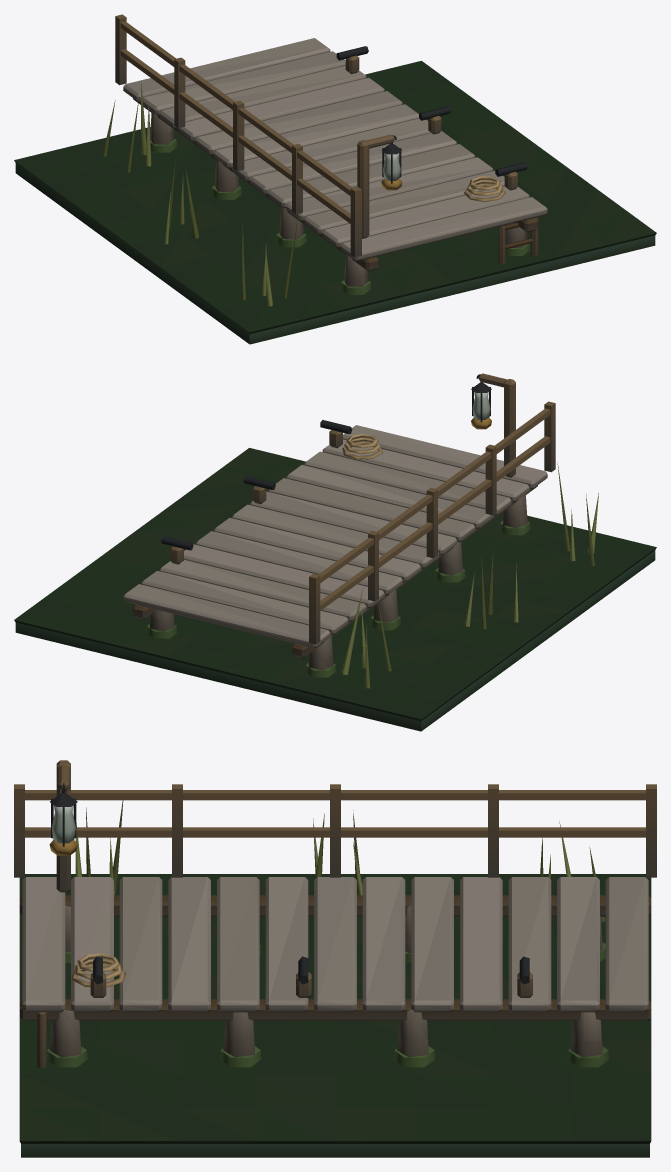
File: fishing-dock-tile.glb
The picture shows the model from 3 angles, top to bottom: view 1: azimuth 30°, elevation 25°; view 2: azimuth 150°, elevation 25°; view 3: azimuth 270°, elevation 25°; orthographic projection. The views are drawn at different scales.
Visible parts, largest first — view 1: fishing_dock_tile; view 2: fishing_dock_tile; view 3: fishing_dock_tile.
Boxes of the visible parts, x1,y1,x2,y2 form: fishing_dock_tile: (14, 14, 656, 344); fishing_dock_tile: (14, 373, 656, 731); fishing_dock_tile: (14, 760, 656, 1157).
Size of the model in its own units: 4 by 1.56 by 4.07.
